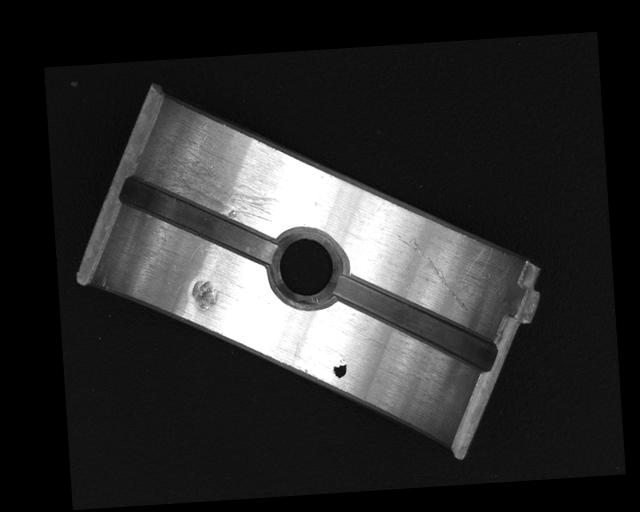blot: (332, 362, 348, 379)
bruise: (190, 278, 220, 311)
gap: (335, 265, 499, 380), (118, 166, 278, 270)
hole: (268, 224, 347, 311)
nick: (395, 227, 471, 317)
scratch: (141, 119, 303, 231)
